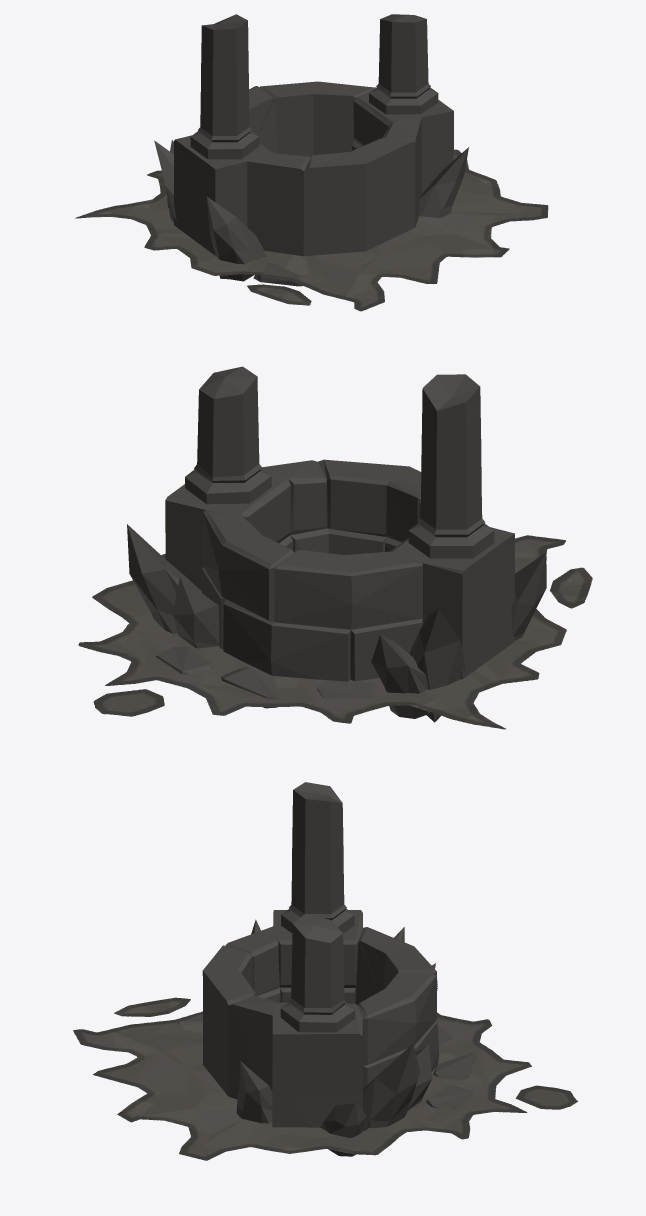
The model's file is hauntBlackWell.fbx.
3 renders of one model, top to bottom at view 1: azimuth 30°, elevation 25°; view 2: azimuth 150°, elevation 25°; view 3: azimuth 270°, elevation 25°, orthographic. The views are drawn at different scales.
Parts seen in each view (by area): view 1: hauntBlackWell, groundPlane; view 2: hauntBlackWell, groundPlane; view 3: hauntBlackWell, groundPlane.
Boxes of the visible parts, x1,y1,x2,y2 form: hauntBlackWell: (154,14,468,286); groundPlane: (75,149,548,311); hauntBlackWell: (127,366,546,722); groundPlane: (78,535,592,729); hauntBlackWell: (178,782,479,1156); groundPlane: (73,980,577,1160).
Size of the model in its own units: 4.85 by 2.25 by 4.85.
